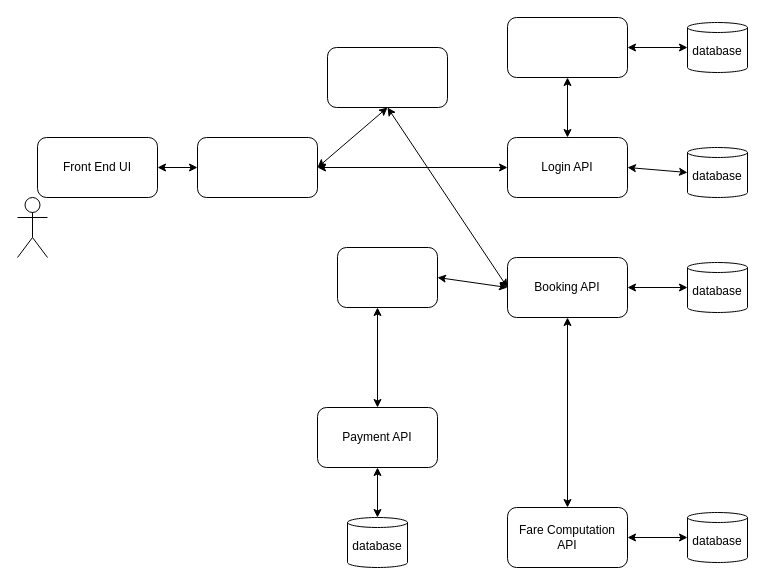
Some shapes in this 765 by 585 pixel diagram are drawn without their labels. Each missing label, with the box of its shape:
API Gateway: (196, 136, 318, 198)
Backend Services: (326, 46, 448, 108)
Message Broker: (336, 246, 438, 308)
User: (16, 196, 48, 258)
User Profile: (506, 16, 628, 78)
